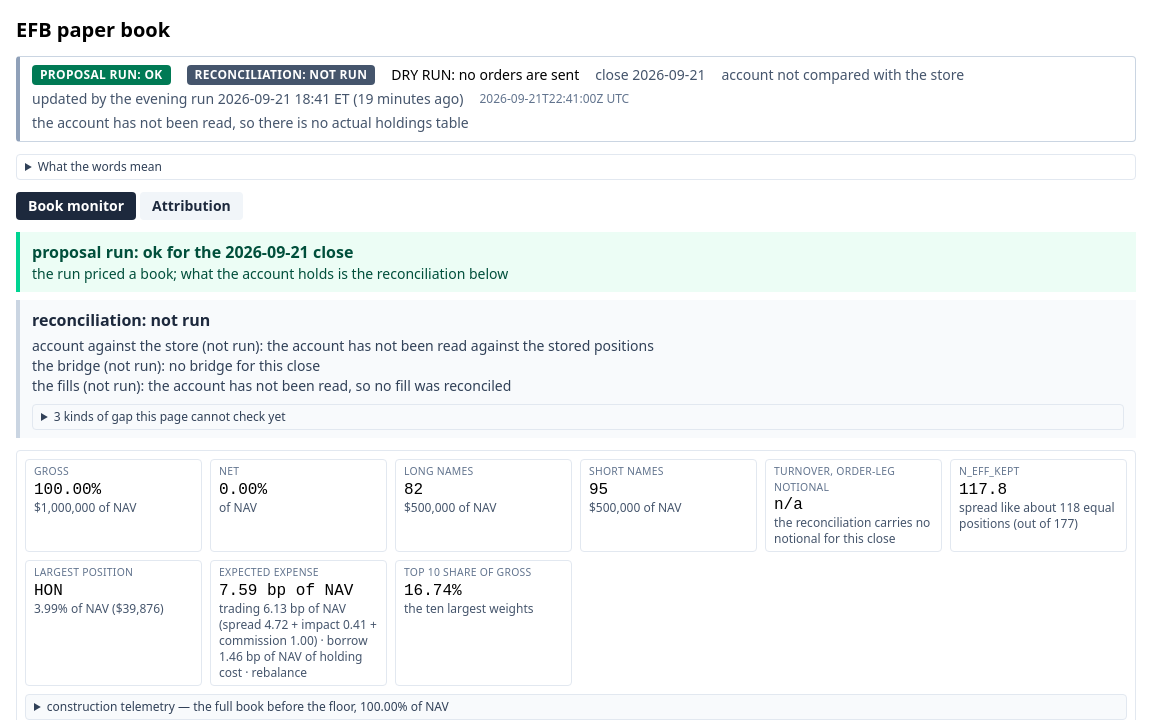
Test: risk concentration › draws each name's share with the cap as a line
Click the tab "Attribution": (191,206) [140, 192, 243, 220]
(page scrolled)
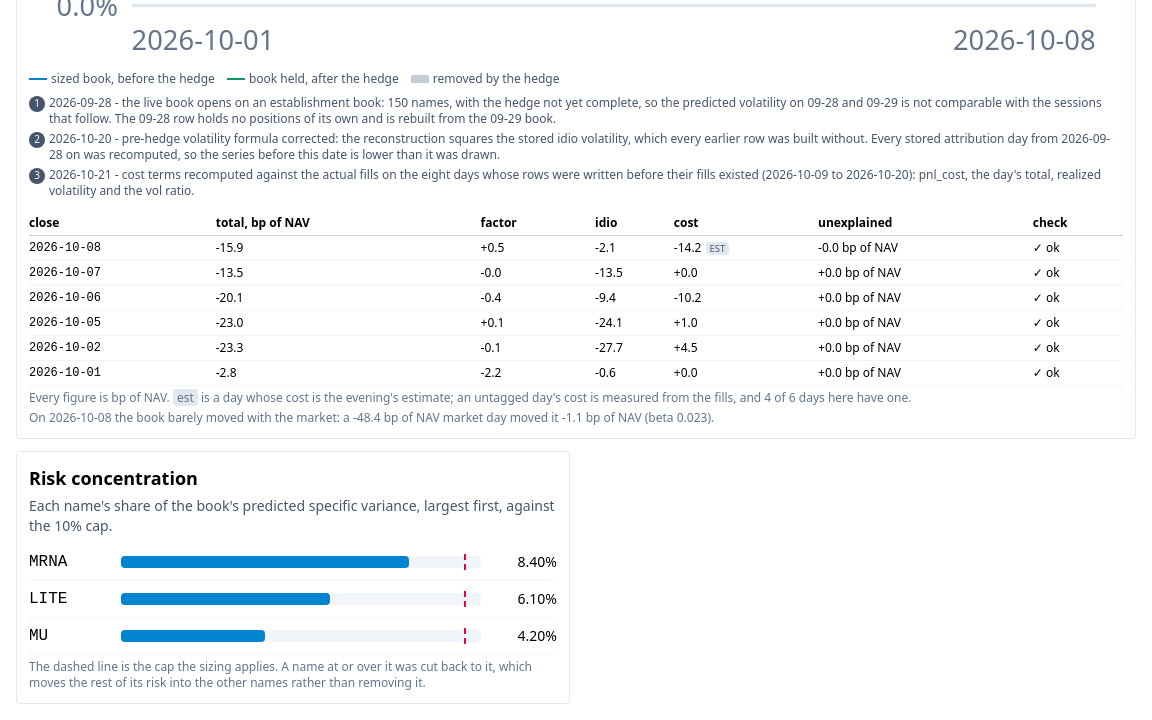
Expected: the element that starts with "Risk concentration" is shown, [16, 451, 570, 704]
Expected: the element named "the cap, 10%" next to "8.40%" is shown, [464, 554, 466, 570]
